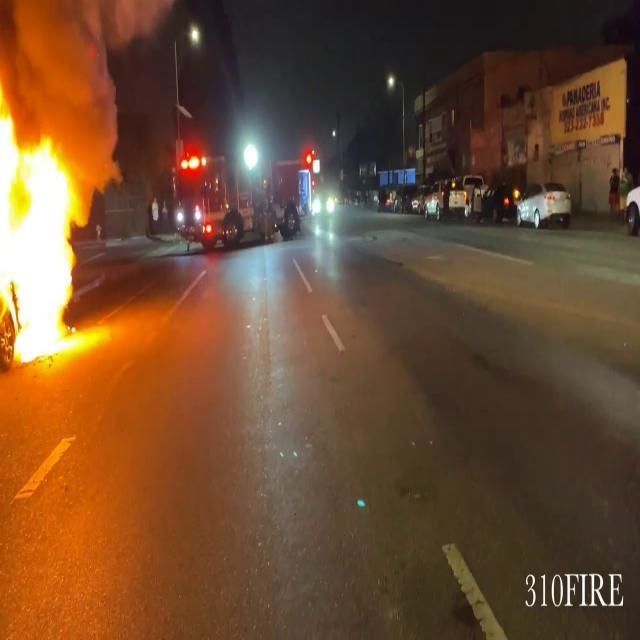Fire: (0, 68, 90, 366)
Smoke: (11, 0, 166, 166)
